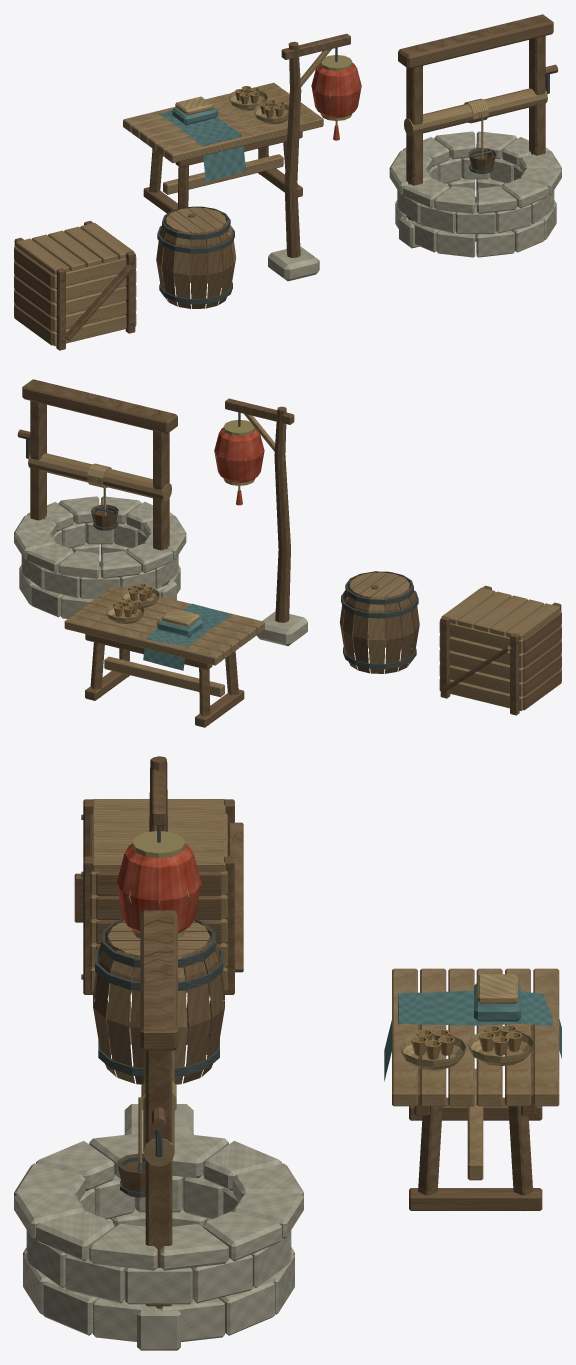
Rendered from props_set.glb.
3 views of the same model, one above another, from view 1: azimuth 30°, elevation 25°; view 2: azimuth 150°, elevation 25°; view 3: azimuth 270°, elevation 25° (orthographic). The views are drawn at different scales.
Visible parts, largest first — view 1: well, market_table, crate, lantern_pole, barrel; view 2: well, market_table, crate, lantern_pole, barrel; view 3: well, market_table, crate, barrel, lantern_pole.
Boxes of the visible parts, x1=… form: well: x1=389, y1=14, x2=561, y2=257; market_table: x1=123, y1=82, x2=323, y2=213; crate: x1=14, y1=220, x2=136, y2=350; lantern_pole: x1=268, y1=33, x2=361, y2=281; barrel: x1=156, y1=206, x2=236, y2=308; well: x1=14, y1=379, x2=186, y2=618; market_table: x1=64, y1=583, x2=264, y2=727; crate: x1=439, y1=585, x2=561, y2=715; lantern_pole: x1=214, y1=398, x2=307, y2=646; barrel: x1=339, y1=571, x2=419, y2=673; well: x1=14, y1=910, x2=303, y2=1350; market_table: x1=384, y1=968, x2=561, y2=1210; crate: x1=74, y1=799, x2=243, y2=994; barrel: x1=93, y1=919, x2=224, y2=1084; lantern_pole: x1=116, y1=756, x2=201, y2=1134.
Bounding box in the file's own units: 6.49 × 2.7 × 3.49.
10 materials, 8 textured.
